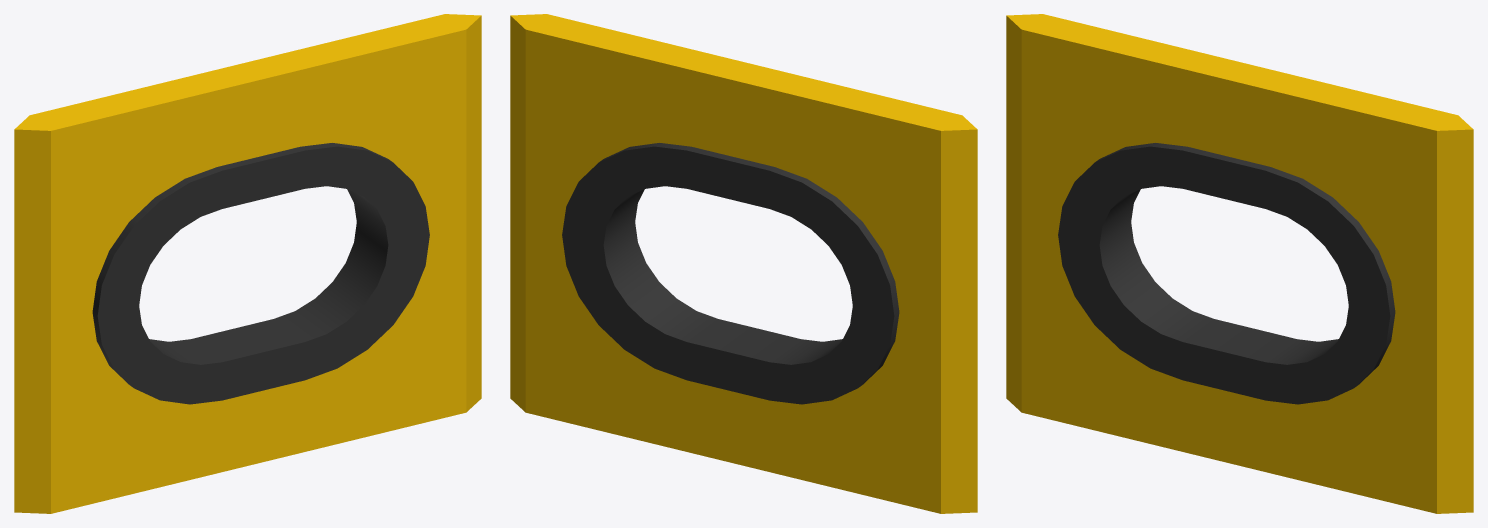
The model's file is Demo_Wall_Oval.fbx.
The picture shows the model from 3 angles, left to right: view 1: azimuth 30°, elevation 25°; view 2: azimuth 150°, elevation 25°; view 3: azimuth 330°, elevation 25°; orthographic projection.
Visible parts, largest first — view 1: mergedBlocks; view 2: mergedBlocks; view 3: mergedBlocks.
Boxes of the visible parts, bbox=[...] form: mergedBlocks: bbox=[14, 14, 481, 513]; mergedBlocks: bbox=[510, 14, 977, 513]; mergedBlocks: bbox=[1006, 14, 1473, 513].
Size of the model in its own units: 29.36 by 23 by 3.43.
